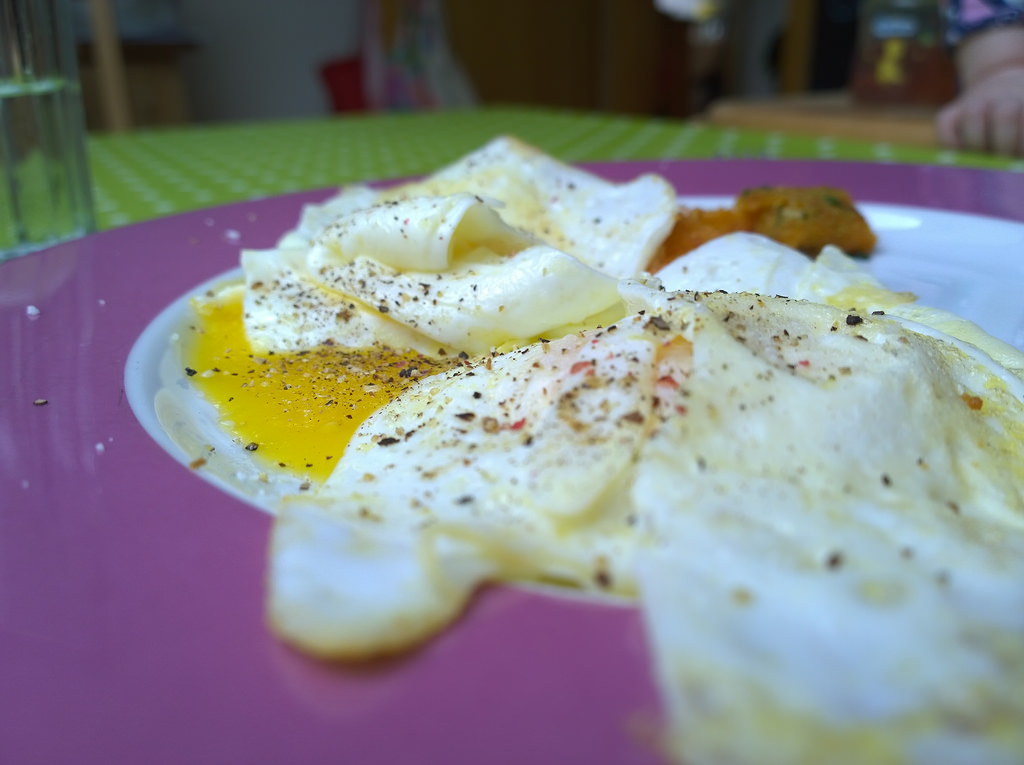fried egg: (181, 146, 1017, 746)
